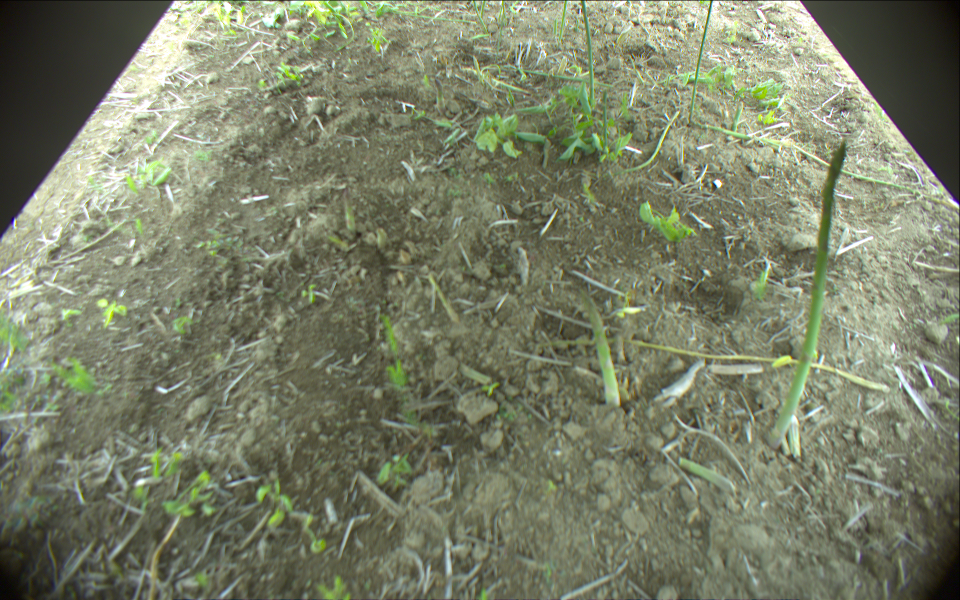aspa: (770, 137, 847, 448), (689, 122, 939, 202), (551, 337, 889, 392), (583, 292, 619, 404), (628, 108, 681, 174), (690, 1, 715, 122), (679, 457, 735, 496), (514, 65, 612, 87), (580, 1, 597, 103), (388, 8, 476, 26), (601, 89, 613, 155), (473, 1, 489, 35), (343, 187, 355, 232), (730, 103, 742, 132), (560, 1, 569, 39), (552, 19, 559, 36), (481, 1, 487, 16)
